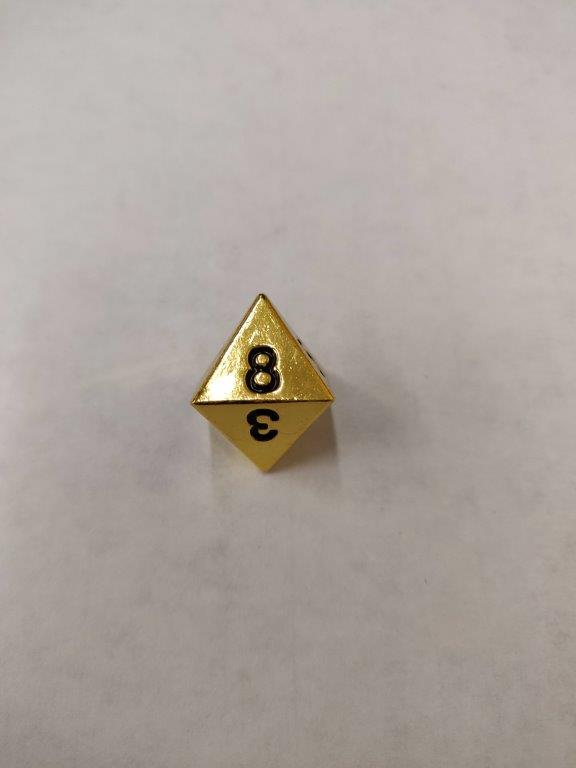d8-8: (188, 294, 335, 470)
